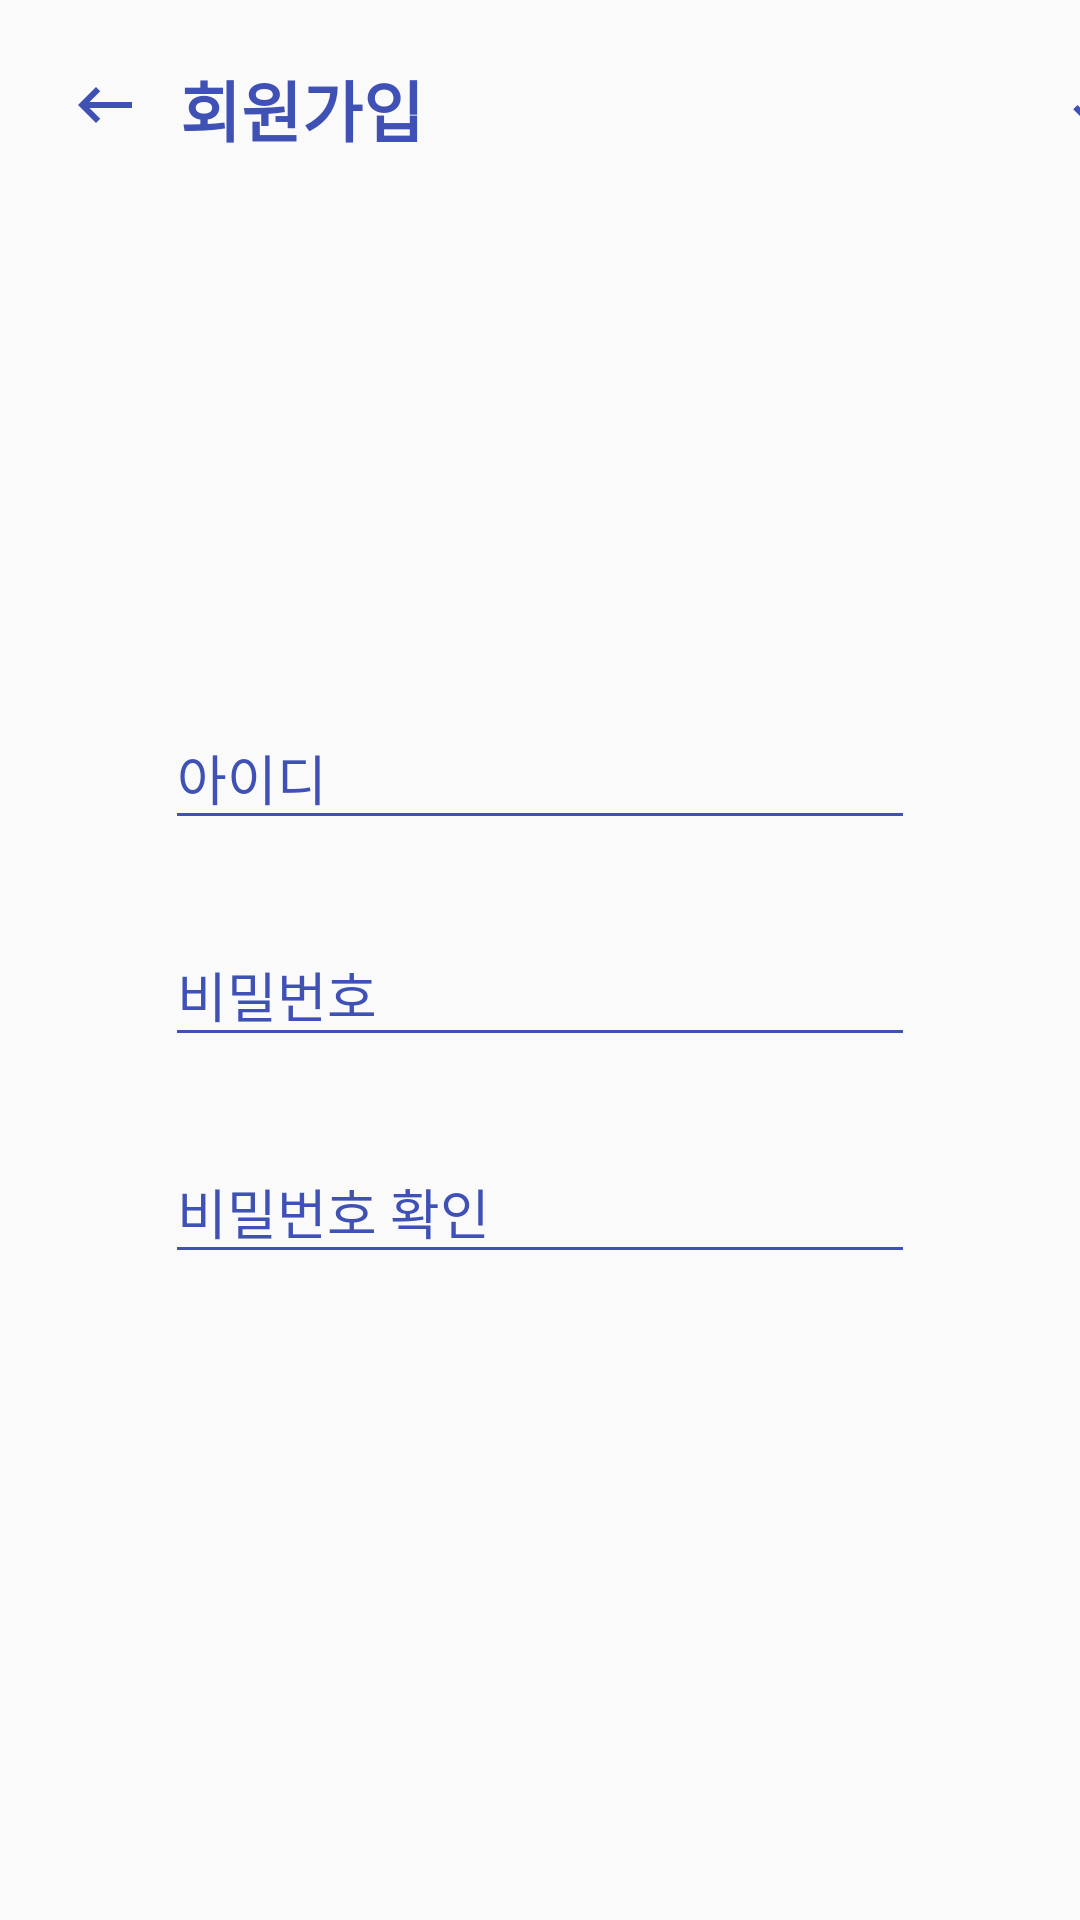

Screen size 1080px x 1920px. Icon name, then its box in pixels as (x1, y1, x2, y2):
keyboard backspace: (78, 87, 132, 123)
